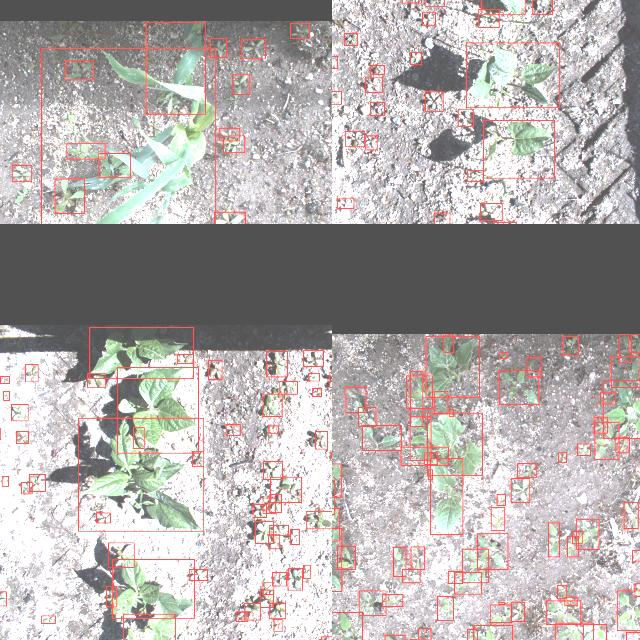crop: (41, 48, 215, 224), (77, 418, 203, 530), (116, 367, 198, 453), (465, 42, 559, 108), (145, 22, 205, 114), (89, 326, 193, 378), (112, 560, 194, 618), (482, 120, 554, 178), (426, 412, 482, 476), (425, 336, 479, 396), (430, 458, 462, 534), (123, 614, 175, 640), (481, 0, 524, 14)
weed: (603, 380, 640, 438), (498, 370, 538, 404), (477, 534, 508, 570), (54, 178, 84, 214), (616, 591, 640, 631), (362, 426, 401, 450), (610, 356, 640, 386), (461, 549, 487, 583), (410, 416, 430, 460), (594, 422, 618, 458), (400, 447, 448, 465), (98, 152, 130, 178), (406, 376, 432, 408), (546, 601, 580, 625), (332, 613, 361, 640), (270, 477, 300, 503), (358, 590, 386, 616), (107, 542, 133, 568), (576, 519, 598, 549), (410, 372, 422, 426), (555, 623, 593, 640), (66, 143, 104, 159), (454, 572, 481, 594), (472, 625, 511, 640), (332, 528, 341, 591), (65, 60, 93, 80), (266, 351, 286, 377), (345, 386, 365, 412), (241, 38, 265, 58), (510, 478, 530, 502), (262, 394, 282, 416), (337, 546, 355, 570), (305, 512, 331, 528), (254, 521, 272, 543), (489, 605, 511, 623), (392, 548, 406, 576), (437, 596, 453, 620), (480, 203, 502, 220), (213, 212, 244, 224), (582, 624, 605, 640), (623, 502, 637, 528), (231, 74, 249, 94), (11, 164, 31, 182), (424, 91, 442, 111), (478, 9, 498, 27), (262, 461, 282, 479), (222, 136, 244, 152), (286, 568, 302, 590), (357, 408, 375, 427), (210, 37, 227, 57), (548, 523, 558, 557), (619, 334, 631, 362), (410, 546, 424, 570), (433, 391, 447, 414), (344, 131, 364, 147), (303, 350, 323, 366), (490, 508, 504, 530), (10, 404, 28, 421), (290, 22, 308, 38), (29, 474, 45, 492), (562, 336, 578, 354), (532, 0, 552, 14), (207, 360, 221, 380), (527, 356, 541, 376), (516, 463, 536, 477), (510, 602, 524, 622), (332, 463, 340, 497), (566, 536, 578, 558), (243, 604, 259, 620), (364, 78, 382, 92), (87, 373, 105, 387), (268, 604, 286, 618), (259, 590, 273, 608), (24, 364, 38, 382), (401, 569, 419, 583), (219, 128, 239, 140), (382, 594, 402, 606), (279, 381, 297, 394), (332, 508, 339, 541), (458, 110, 472, 126), (593, 417, 607, 433), (615, 436, 629, 452), (105, 587, 116, 607), (133, 427, 143, 449), (269, 494, 281, 512), (315, 431, 327, 449), (628, 334, 640, 352), (188, 570, 208, 580), (268, 525, 288, 535), (370, 102, 384, 116), (272, 572, 286, 586), (252, 504, 266, 518), (443, 334, 453, 352), (433, 213, 449, 224), (343, 33, 357, 45), (468, 170, 482, 182), (267, 535, 279, 549), (262, 498, 274, 512), (225, 424, 239, 436), (576, 443, 590, 455), (448, 571, 462, 583), (337, 198, 353, 208), (600, 392, 614, 403), (422, 12, 434, 24), (176, 353, 192, 362), (262, 583, 274, 595), (16, 431, 28, 443), (20, 482, 32, 494), (424, 452, 436, 464), (418, 628, 430, 640), (366, 136, 376, 150), (96, 513, 110, 523), (192, 452, 202, 466), (572, 530, 582, 544), (556, 585, 566, 599), (410, 52, 420, 64), (235, 612, 247, 622), (332, 91, 341, 104), (424, 0, 443, 6), (370, 66, 384, 74), (41, 616, 55, 624), (290, 530, 298, 544), (626, 632, 640, 640), (467, 629, 477, 640), (631, 550, 640, 562), (384, 635, 404, 640), (273, 620, 281, 632), (302, 566, 310, 578), (496, 494, 504, 506), (564, 597, 576, 605), (308, 373, 318, 381), (558, 452, 566, 462), (634, 583, 640, 596), (312, 388, 321, 396), (0, 592, 5, 606), (332, 479, 334, 514), (328, 371, 332, 386), (268, 426, 278, 432), (3, 390, 9, 400), (2, 476, 8, 486), (0, 376, 8, 383), (332, 56, 336, 68), (321, 636, 332, 640), (499, 352, 506, 358), (427, 470, 431, 480), (449, 409, 453, 417), (330, 453, 332, 461), (498, 602, 504, 604)
